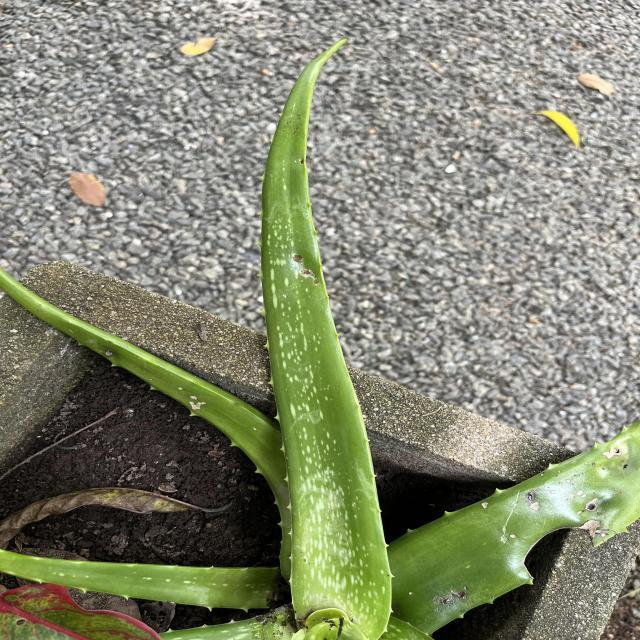Aloe vera: (256, 32, 398, 640)
